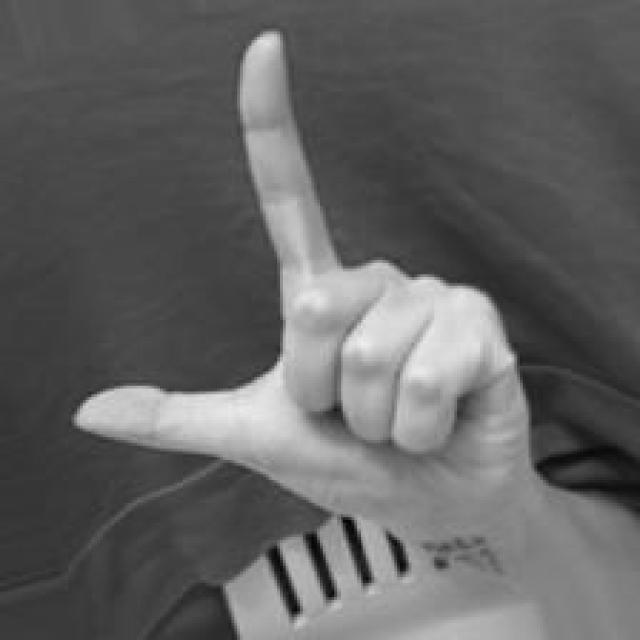L: (68, 20, 538, 532)
